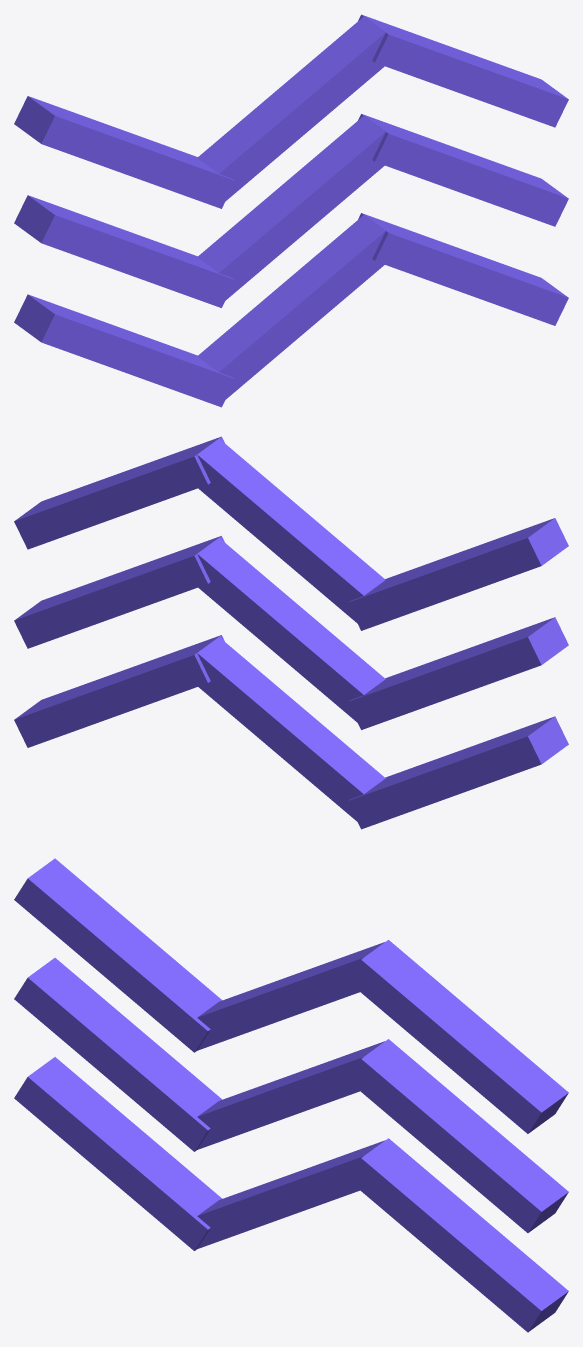
The model's file is ElectricBurst.fbx.
3 views of the same model, one above another, from view 1: azimuth 30°, elevation 25°; view 2: azimuth 150°, elevation 25°; view 3: azimuth 330°, elevation 25° (orthographic).
Visible parts, largest first — view 1: Cube.004, Cube.007, Cube.002; view 2: Cube.004, Cube.007, Cube.002; view 3: Cube.004, Cube.007, Cube.002.
Boxes of the visible parts, x1,y1,x2,y2 form: Cube.004: (14, 14, 568, 208); Cube.007: (14, 213, 568, 407); Cube.002: (14, 114, 568, 307); Cube.004: (14, 436, 568, 630); Cube.007: (14, 635, 568, 829); Cube.002: (14, 536, 568, 729); Cube.004: (14, 858, 568, 1133); Cube.007: (14, 1057, 568, 1332); Cube.002: (14, 958, 568, 1232).
Size of the model in its own units: 111 by 66.98 by 10.
